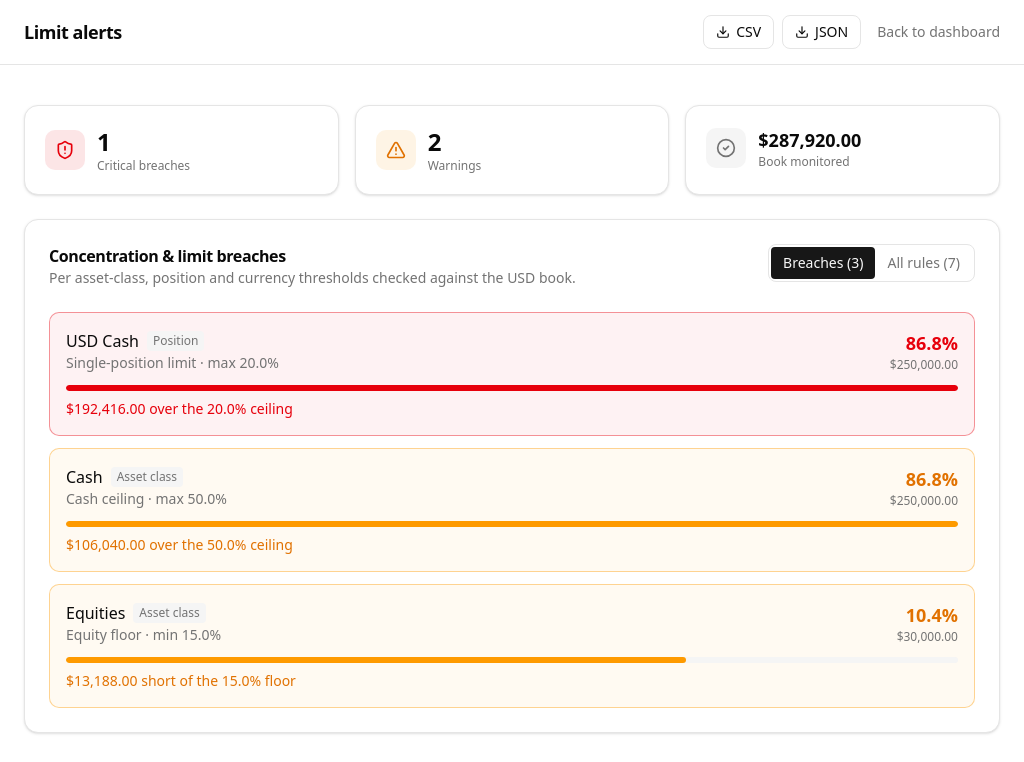
Test: AlertsPage › switches to the all-rules view and shows every rule including satisfied ones
This screenshot has width=1024, height=762.
Click the button with test id "filter-all" at x=924, y=263, box [876, 247, 972, 279]
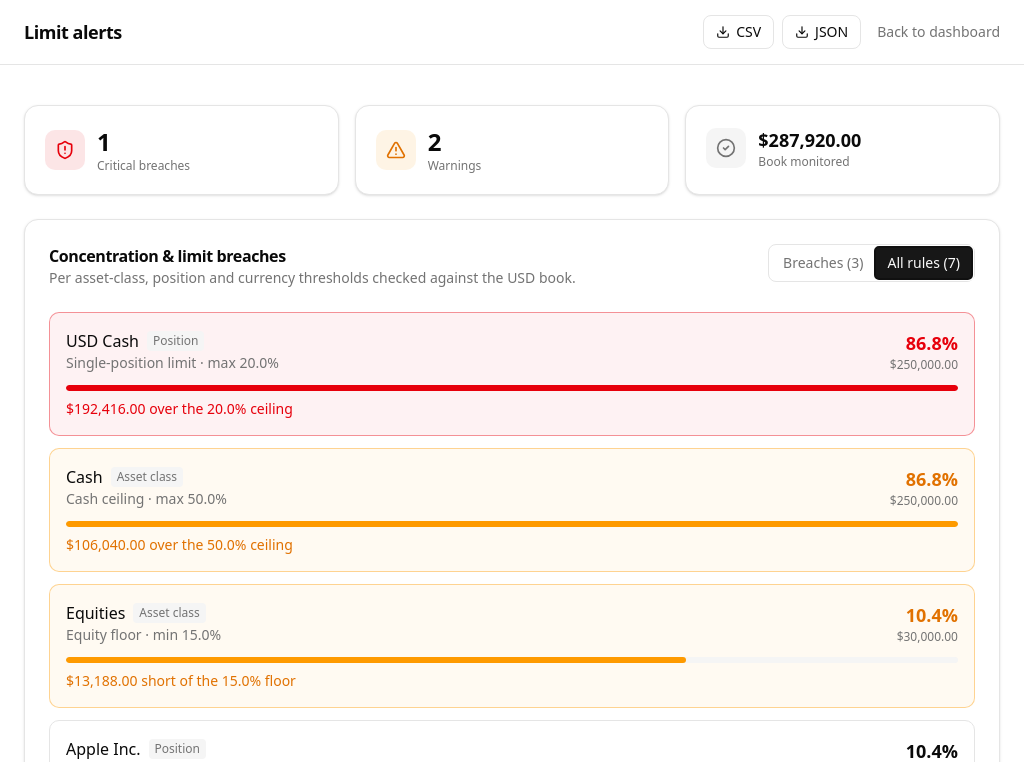
Check: the number of list items with test id "alert-row" is 7
